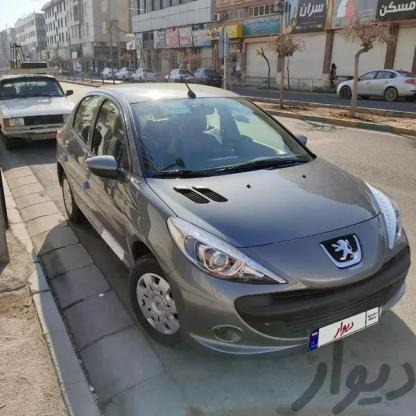Car: (48, 68, 405, 365), (0, 63, 78, 145), (327, 57, 416, 112)
